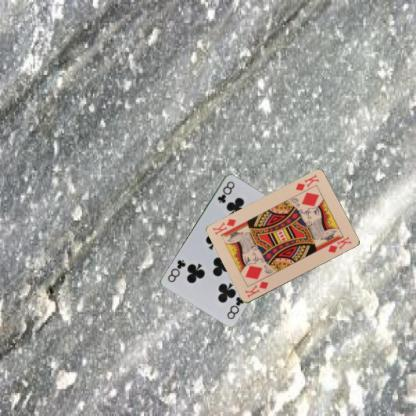8c: (224, 294, 246, 321), (215, 178, 236, 204)
Kd: (242, 278, 270, 300), (293, 172, 320, 192)
